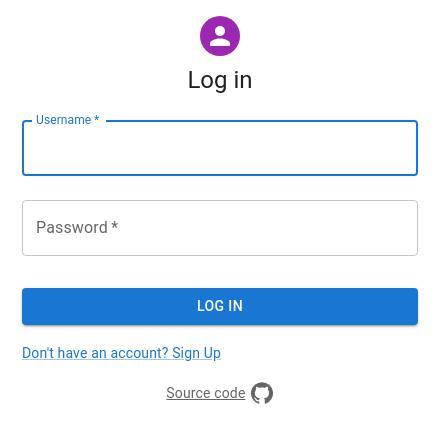
it: Login Page tests › should show errors when no password is given
In the field with test id "login-username-field": (220, 148) [22,120,418,176], type "user"
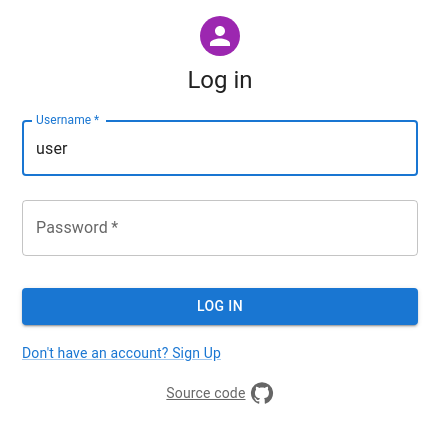
Click the button "Log In": (220, 306) [22,288,418,324]
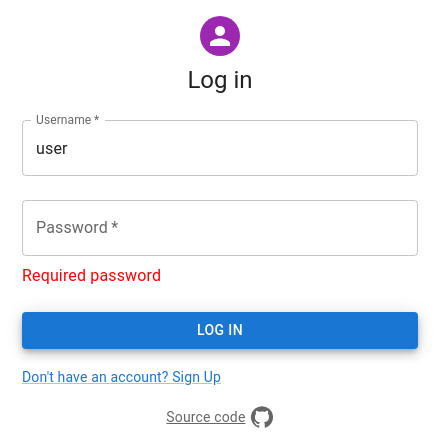
Expected: the text "Required password" is shown, [22,266,161,285]
